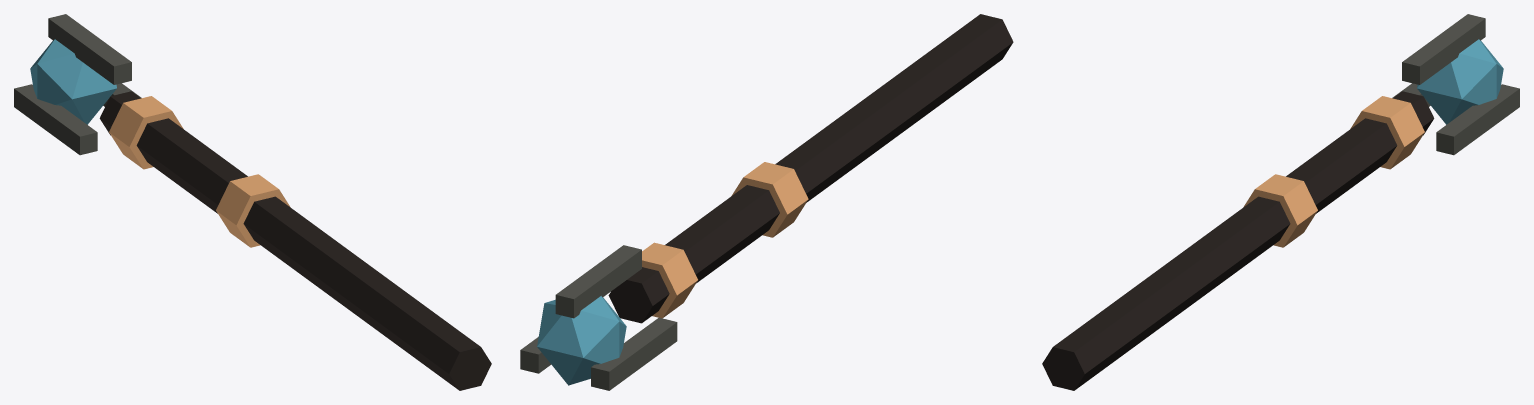
File: staff.glb
3 views of the same model, side by side, from view 1: azimuth 30°, elevation 25°; view 2: azimuth 150°, elevation 25°; view 3: azimuth 330°, elevation 25° (orthographic). The views are drawn at different scales.
Parts seen in each view (by area): view 1: Haft, Orb, Prong0, Prong1, Band1, Band0; view 2: Haft, Orb, Prong0, Prong1, Band0, Band1, Prong2; view 3: Haft, Orb, Prong0, Prong2, Band1, Band0.
Part boxes in pixels (<box>): Haft: <box>99,91,491,390</box>; Orb: <box>30,39,116,124</box>; Prong0: <box>48,14,131,84</box>; Prong1: <box>14,84,97,155</box>; Band1: <box>109,96,183,169</box>; Band0: <box>216,174,290,247</box>; Haft: <box>608,14,1013,323</box>; Orb: <box>537,296,626,385</box>; Prong0: <box>555,245,641,318</box>; Prong1: <box>591,317,677,390</box>; Band0: <box>731,162,808,237</box>; Band1: <box>642,242,697,318</box>; Prong2: <box>520,337,550,373</box>; Haft: <box>1042,91,1434,390</box>; Orb: <box>1417,39,1503,124</box>; Prong0: <box>1402,14,1485,84</box>; Prong2: <box>1436,84,1519,155</box>; Band1: <box>1350,96,1424,169</box>; Band0: <box>1243,174,1317,247</box>.
Bounding box in the file's own units: 0.121 × 0.1185 × 1.02.
